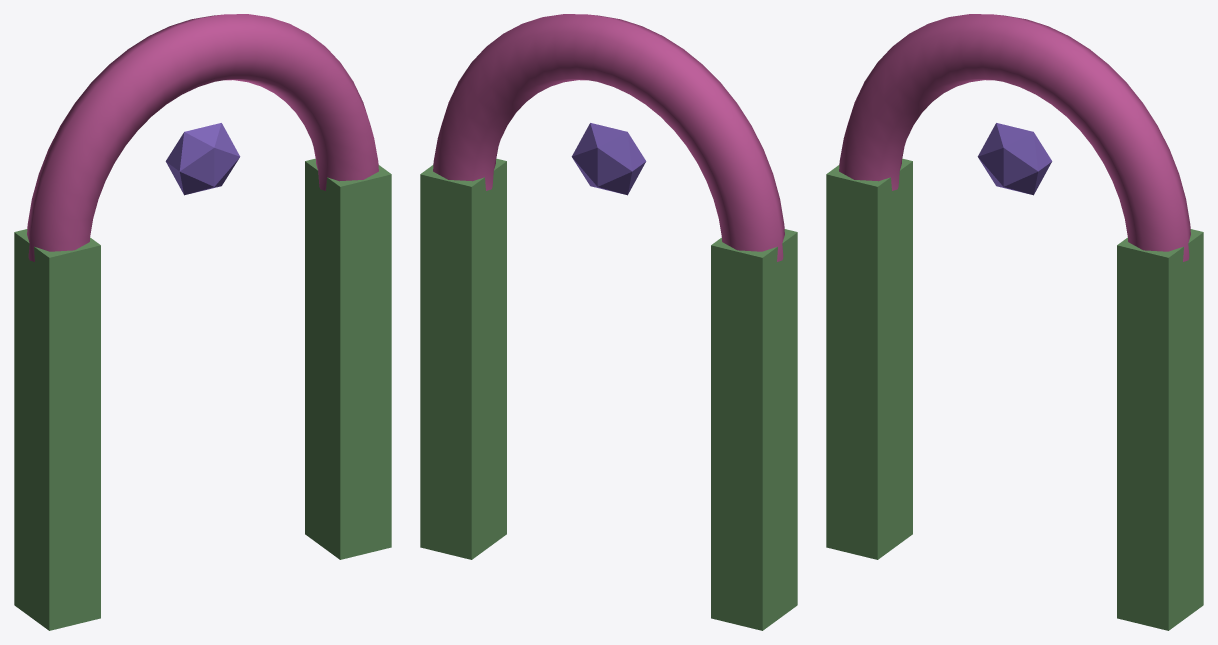
File: gateway.glb
The picture shows the model from 3 angles, left to right: view 1: azimuth 30°, elevation 25°; view 2: azimuth 150°, elevation 25°; view 3: azimuth 330°, elevation 25°; orthographic projection.
Visible parts, largest first — view 1: pillar_-1, pillar_1, arch, keystone; view 2: pillar_-1, pillar_1, arch, keystone; view 3: pillar_1, pillar_-1, arch, keystone.
Part boxes in pixels (x1,y1,x2,y2): pillar_-1: (14,229,100,630); pillar_1: (305,158,391,559); arch: (27,14,378,261); keystone: (165,123,240,195); pillar_-1: (711,229,797,630); pillar_1: (420,158,506,559); arch: (433,14,784,261); keystone: (571,123,646,195); pillar_1: (1117,229,1203,630); pillar_-1: (826,158,912,559); arch: (839,14,1190,261); keystone: (977,123,1052,195).
Size of what is drawn, in the model's own units: 3.7 by 5.69 by 0.65.
